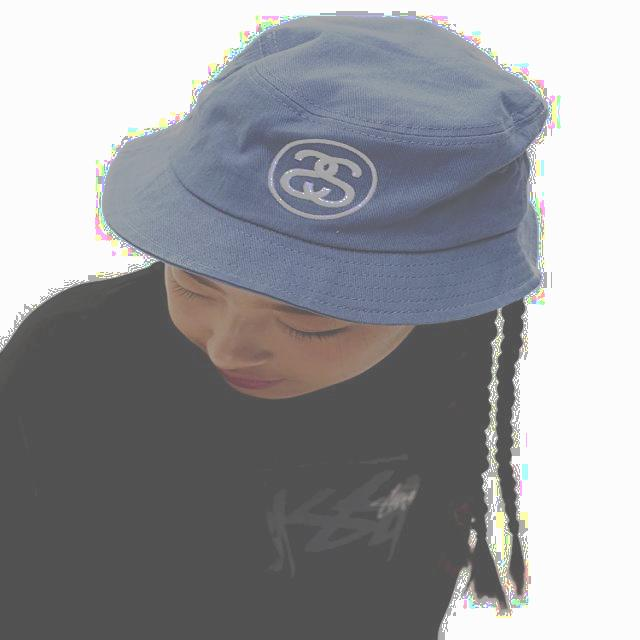TOPI: (94, 11, 546, 327)
